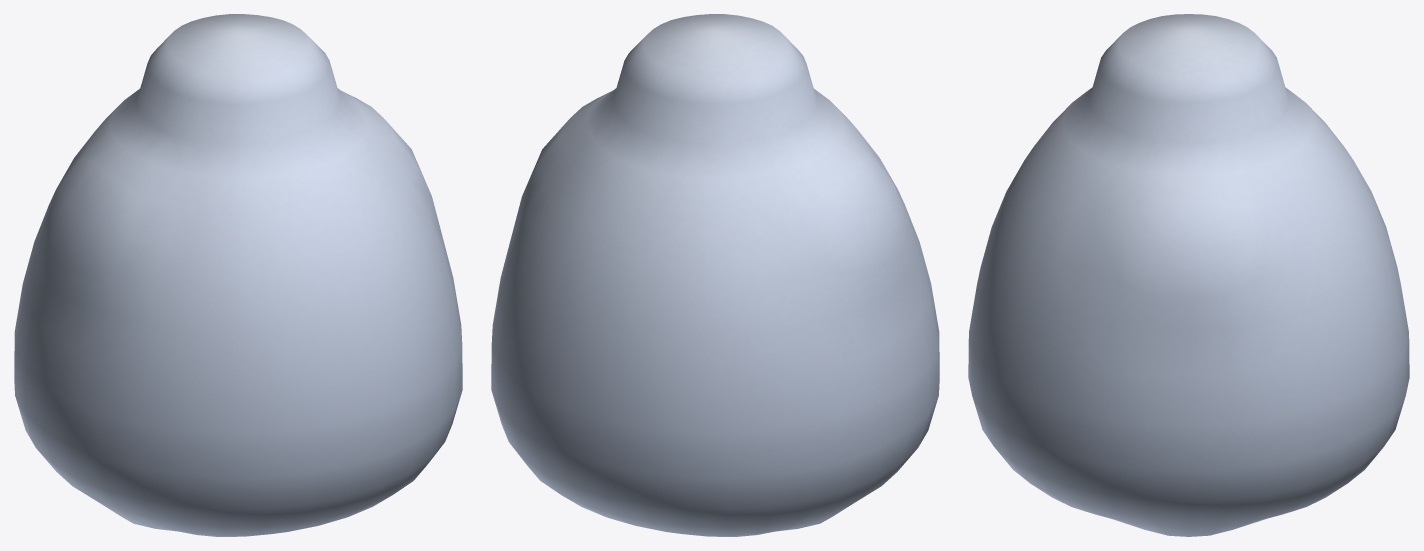
File: Body.obj
The picture shows the model from 3 angles, left to right: view 1: azimuth 30°, elevation 25°; view 2: azimuth 150°, elevation 25°; view 3: azimuth 270°, elevation 25°; orthographic projection.
Parts seen in each view (by area): view 1: Handle; view 2: Handle; view 3: Handle.
Part boxes in pixels (x1=…): Handle: x1=14, y1=14, x2=462, y2=536; Handle: x1=491, y1=14, x2=939, y2=536; Handle: x1=968, y1=14, x2=1409, y2=536.
Size of the model in its own units: 1.33 by 1.56 by 1.33.
1 material, 1 textured.
